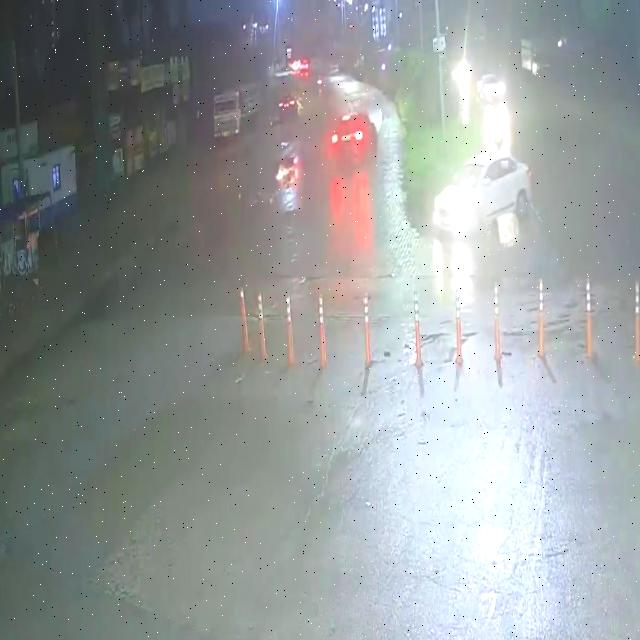accident: (267, 136, 306, 193)
